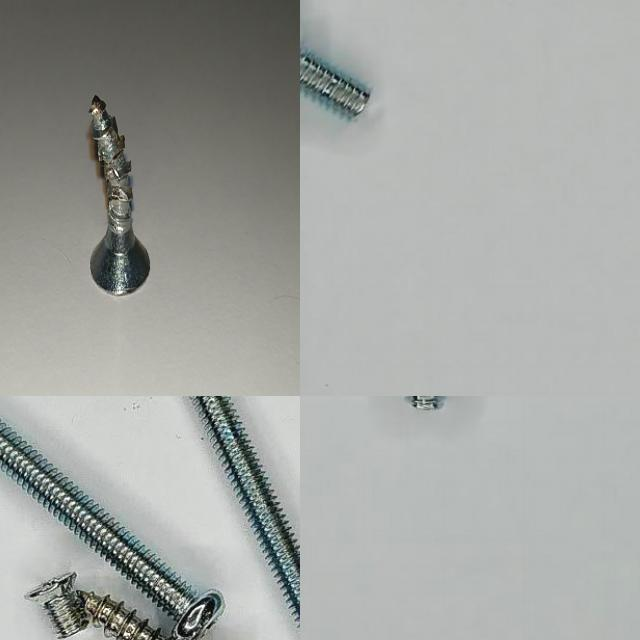Screw: (0, 421, 224, 640), (192, 396, 300, 628), (89, 94, 149, 294), (300, 50, 369, 119), (76, 591, 166, 640), (23, 573, 87, 639)
